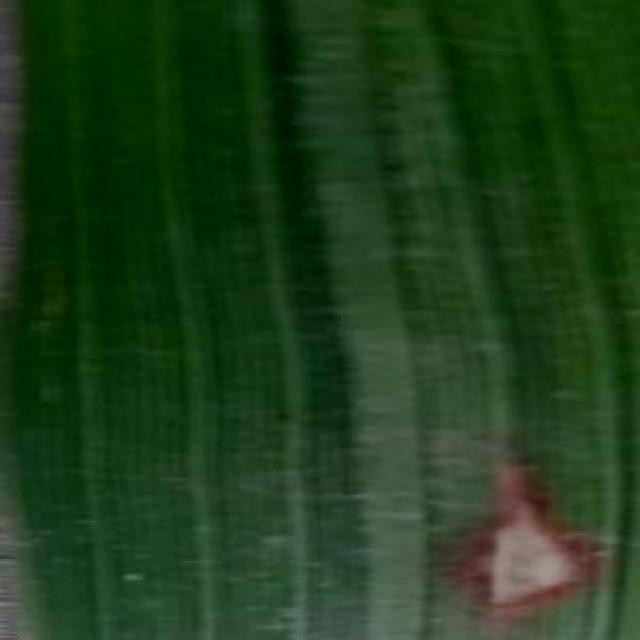Brown_Spot: (434, 468, 618, 618)
